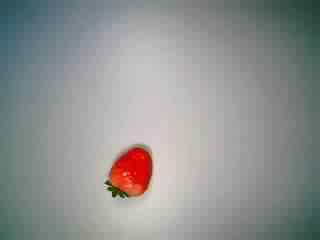strawberry: (97, 142, 165, 206)
